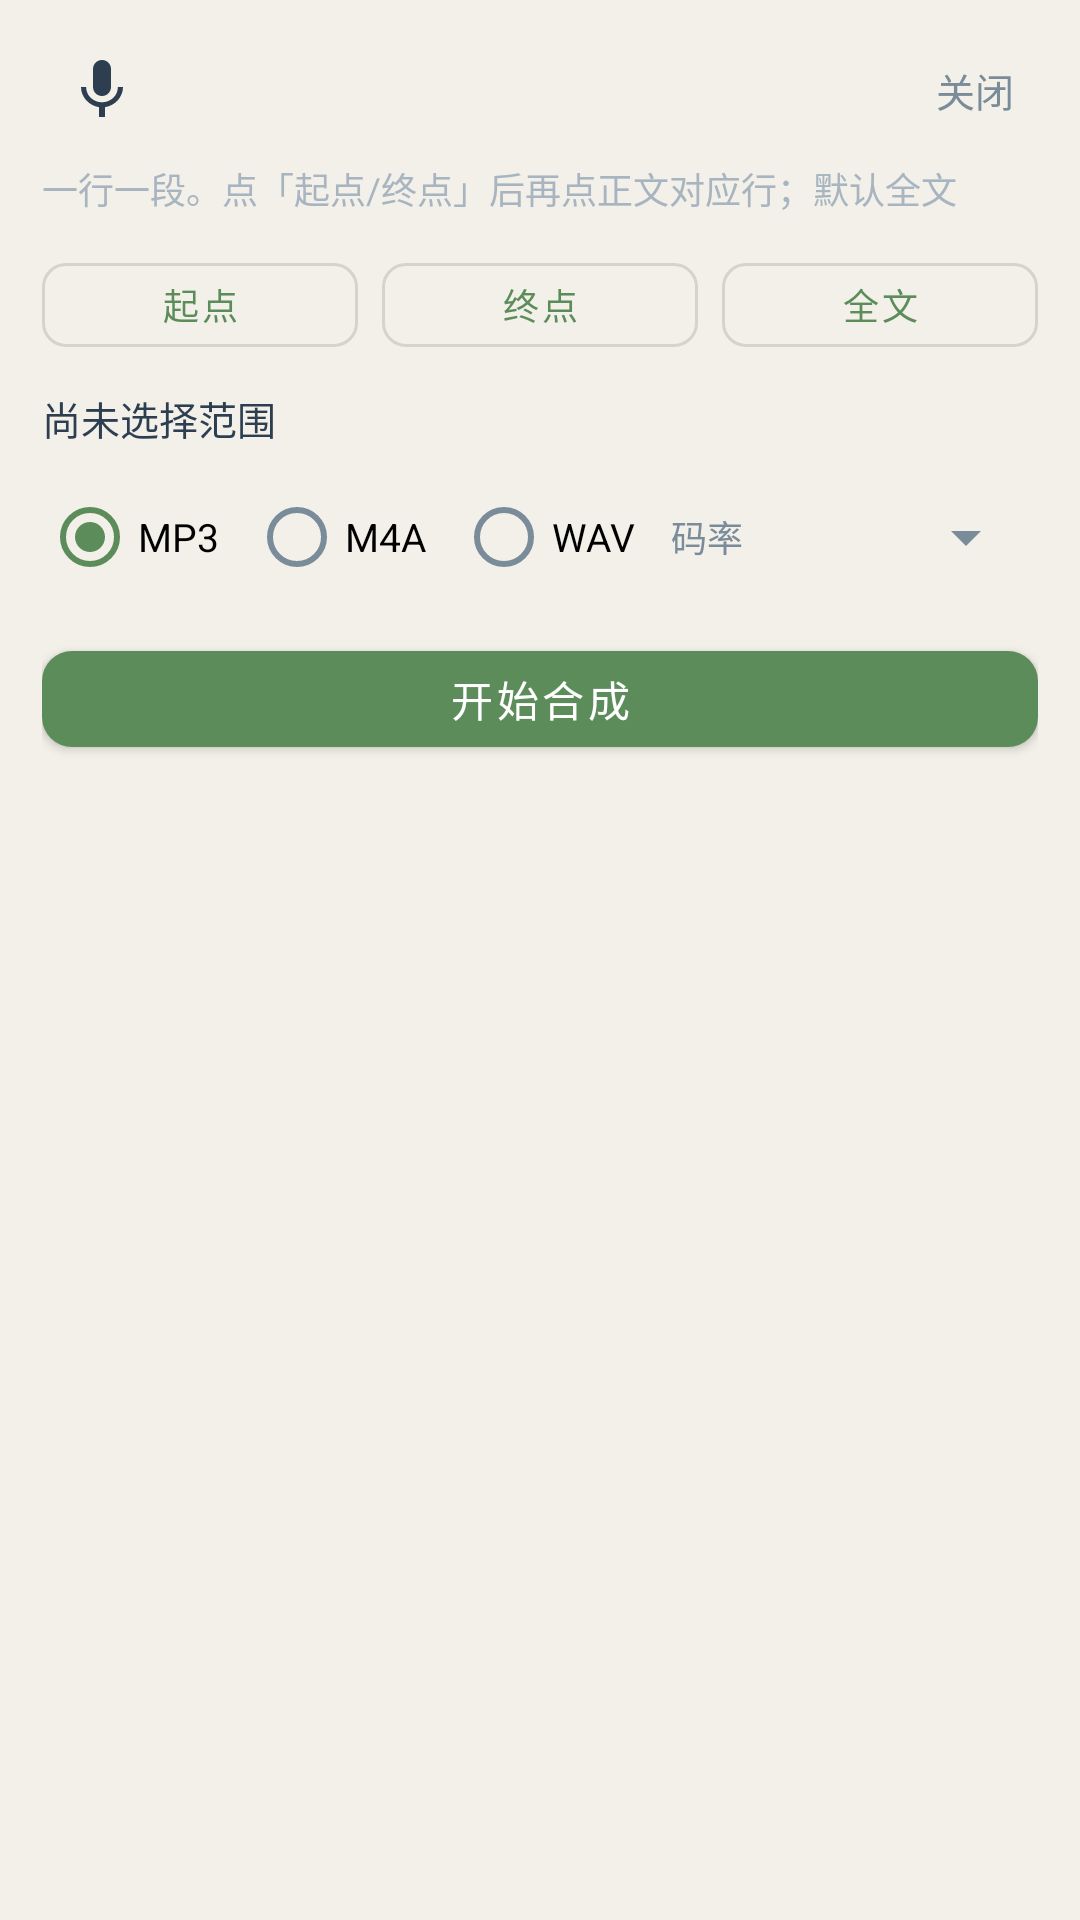

Locate icon controls on the screen. Image size 1080px x 1920px, boxes as (x1, y1, x2, y2).
发音人: (81, 60, 123, 117)
